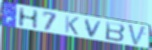7: (41, 11, 60, 32)
B: (105, 21, 127, 43)
H: (16, 7, 40, 30)
K: (64, 14, 81, 36)
V: (127, 24, 148, 47), (84, 18, 105, 39)
